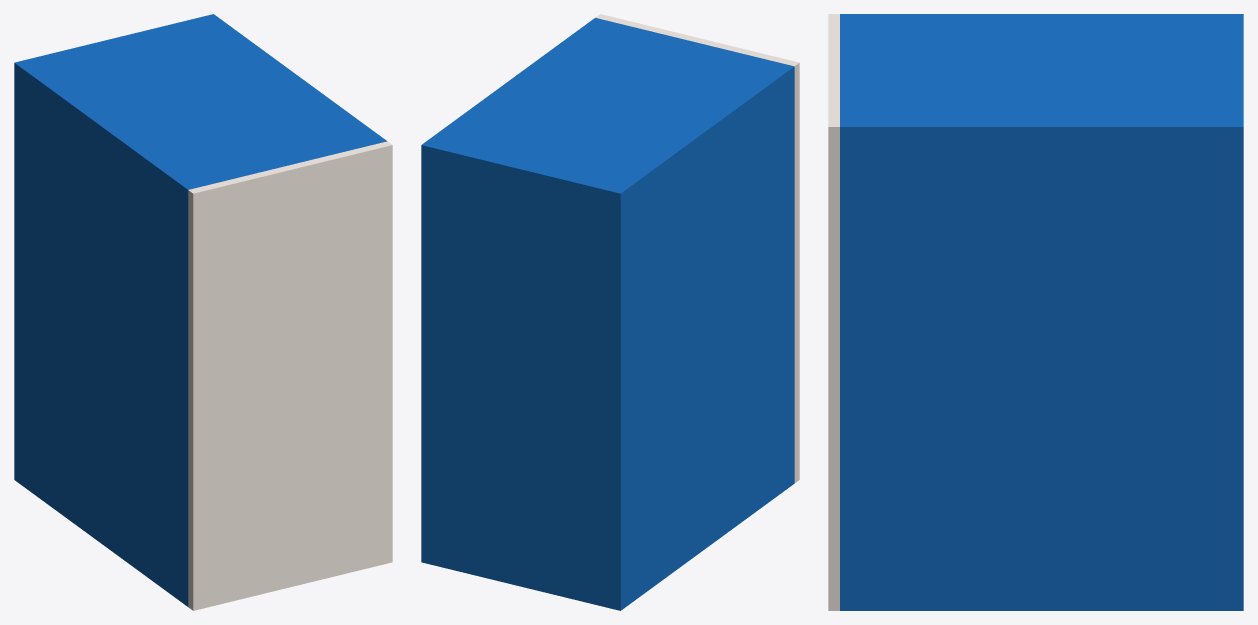
The model's file is nil_link_mesh.dae.
3 views of the same model, side by side, from view 1: azimuth 30°, elevation 25°; view 2: azimuth 150°, elevation 25°; view 3: azimuth 270°, elevation 25° (orthographic). The views are drawn at different scales.
Parts seen in each view (by area): view 1: nil_link (×2); view 2: nil_link (×2); view 3: nil_link (×2).
Boxes of the visible parts, x1,y1,x2,y2 form: nil_link (×2): (14, 14, 392, 610); nil_link (×2): (421, 14, 799, 610); nil_link (×2): (828, 14, 1243, 610).
Size of the model in its own units: 0.45 by 0.9 by 0.7.
